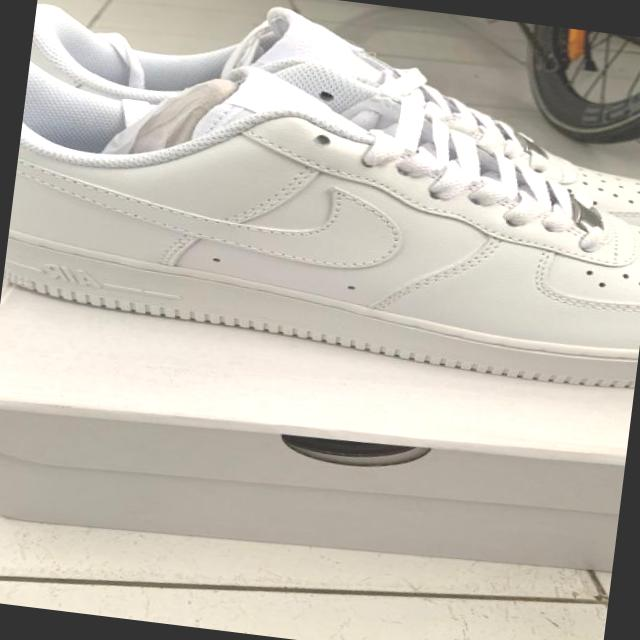nike_original_airforce: (0, 41, 640, 394), (15, 0, 640, 251)
